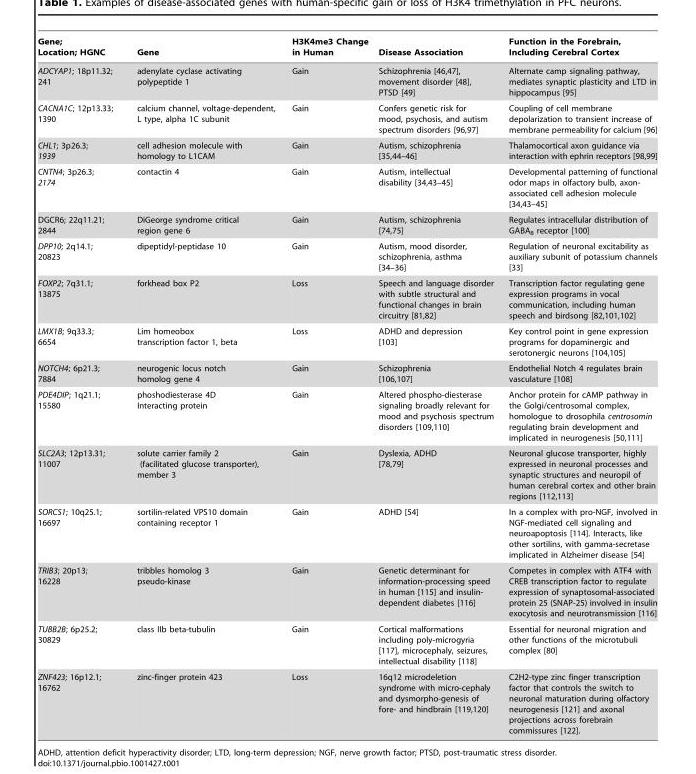table: (37, 36, 656, 734)
table column: (124, 36, 282, 734), (500, 36, 656, 734), (372, 36, 500, 734), (282, 36, 372, 734), (37, 36, 124, 734)
table column header: (37, 36, 656, 61)
table row: (37, 668, 656, 734), (37, 386, 656, 445), (37, 503, 656, 562), (37, 445, 656, 503), (37, 562, 656, 620), (37, 163, 656, 211), (37, 275, 656, 323), (37, 620, 656, 668), (37, 61, 656, 100), (37, 100, 656, 137), (37, 238, 656, 275), (37, 323, 656, 360), (37, 211, 656, 238), (37, 137, 656, 163), (37, 360, 656, 386), (37, 36, 656, 61)
